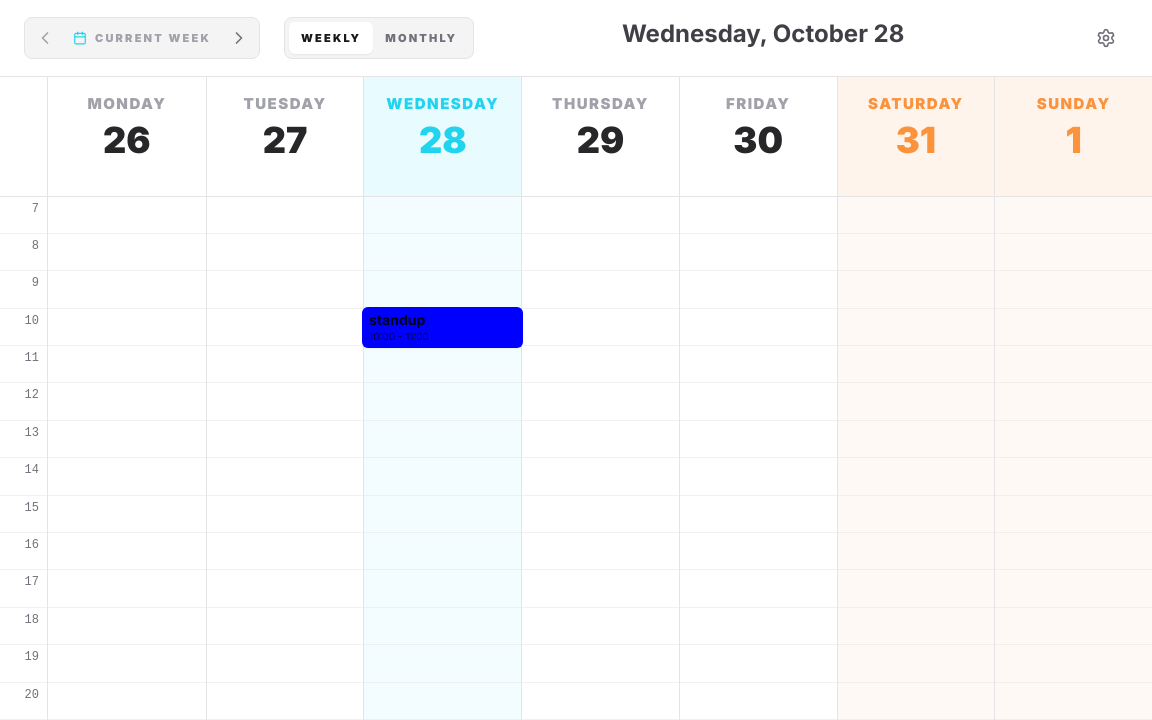
Test: Dashboard week navigation › Next Week into a month not loaded yet keeps the Dashboard, with the small indicator
Click the button with test id "next-week-button". click: (239, 38)
box: [223,22,255,54]
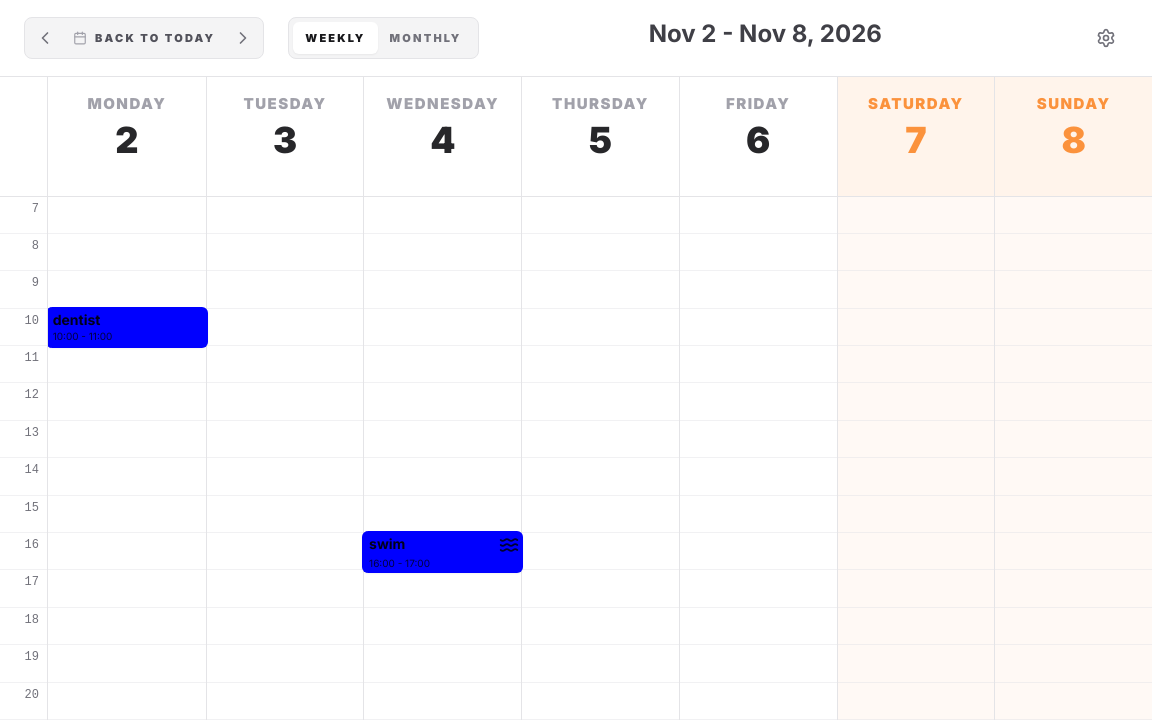
Check: the element with test id "event-card-dentist" is shown, box [48,307,208,348]
Check: the element with test id "event-card-swim" is shown, box [362,531,524,572]
